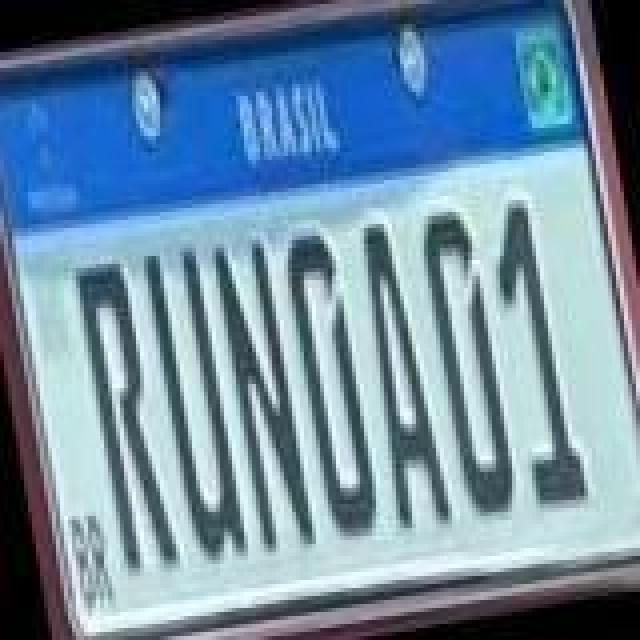1: (480, 190, 592, 514)
A: (344, 216, 456, 536)
D: (412, 196, 524, 524), (276, 226, 388, 542)
N: (206, 230, 322, 562)
R: (72, 256, 184, 576)
U: (140, 240, 252, 576)
